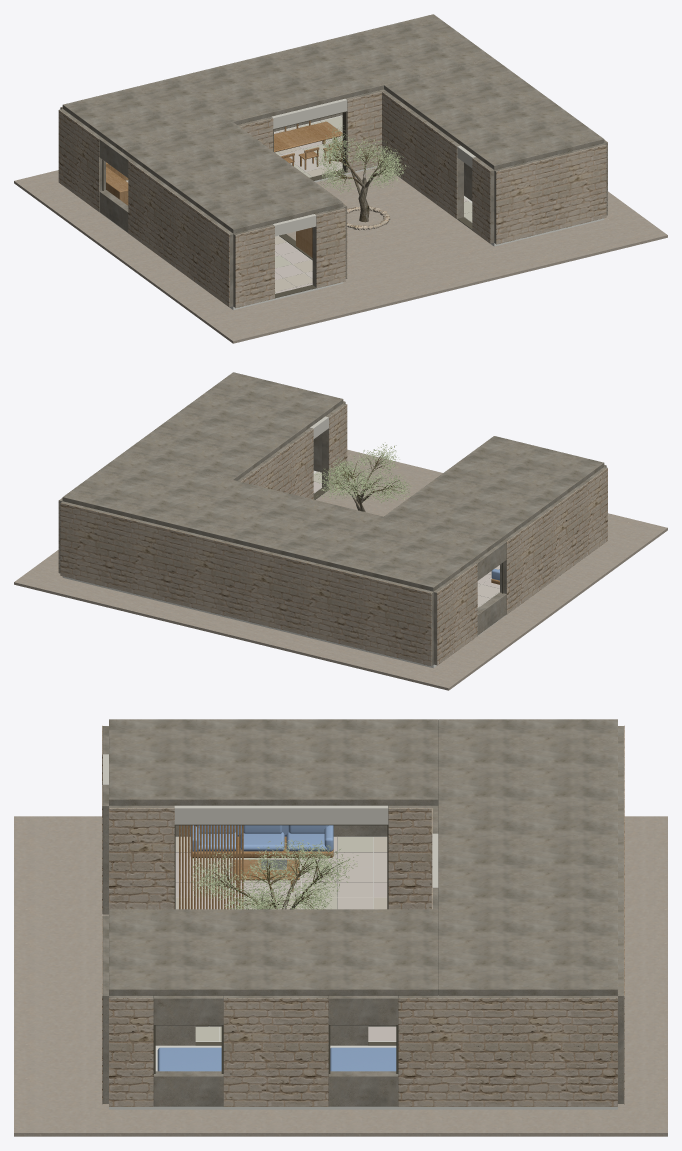
Rendered from house.glb.
3 renders of one model, top to bottom at view 1: azimuth 30°, elevation 25°; view 2: azimuth 150°, elevation 25°; view 3: azimuth 270°, elevation 25°, orthographic. The views are drawn at different scales.
Parts seen in each view (by area): view 1: Limewash, Limestone 0, Courtyard, Clay floor, Honey oak, Olive leaves 0, Olive bark; view 2: Limewash, Limestone 0, Courtyard, Olive leaves 0, Clay floor, Olive bark; view 3: Limewash, Courtyard, Limestone 0, Clay floor, Linen, Olive leaves 0, Honey oak, Olive bark.
Part boxes in pixels (x1,y1,x2,y2): Limewash: [59, 14, 607, 307]; Limestone 0: [58, 91, 607, 308]; Courtyard: [14, 167, 667, 343]; Clay floor: [99, 98, 604, 310]; Honey oak: [106, 120, 342, 257]; Olive leaves 0: [315, 123, 408, 193]; Olive bark: [325, 134, 393, 222]; Limewash: [59, 372, 607, 665]; Limestone 0: [58, 401, 607, 665]; Courtyard: [14, 449, 667, 690]; Olive leaves 0: [315, 442, 412, 502]; Clay floor: [62, 416, 506, 668]; Olive bark: [325, 452, 402, 511]; Limewash: [103, 719, 623, 1106]; Courtyard: [14, 816, 667, 1136]; Limestone 0: [102, 725, 624, 1106]; Clay floor: [103, 754, 617, 1109]; Linen: [157, 825, 396, 1071]; Olive leaves 0: [191, 839, 358, 909]; Honey oak: [179, 825, 333, 909]; Olive bark: [202, 849, 344, 909].
Bounding box in the file's own units: 18.75 × 3.43 × 16.37.
8 materials, 8 textured.
